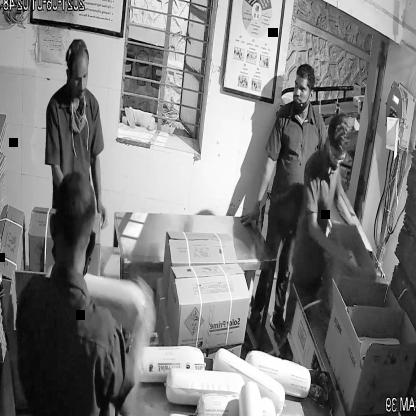goggles: (324, 145, 351, 170)
no_goggles: (289, 78, 318, 100), (66, 68, 92, 91)
